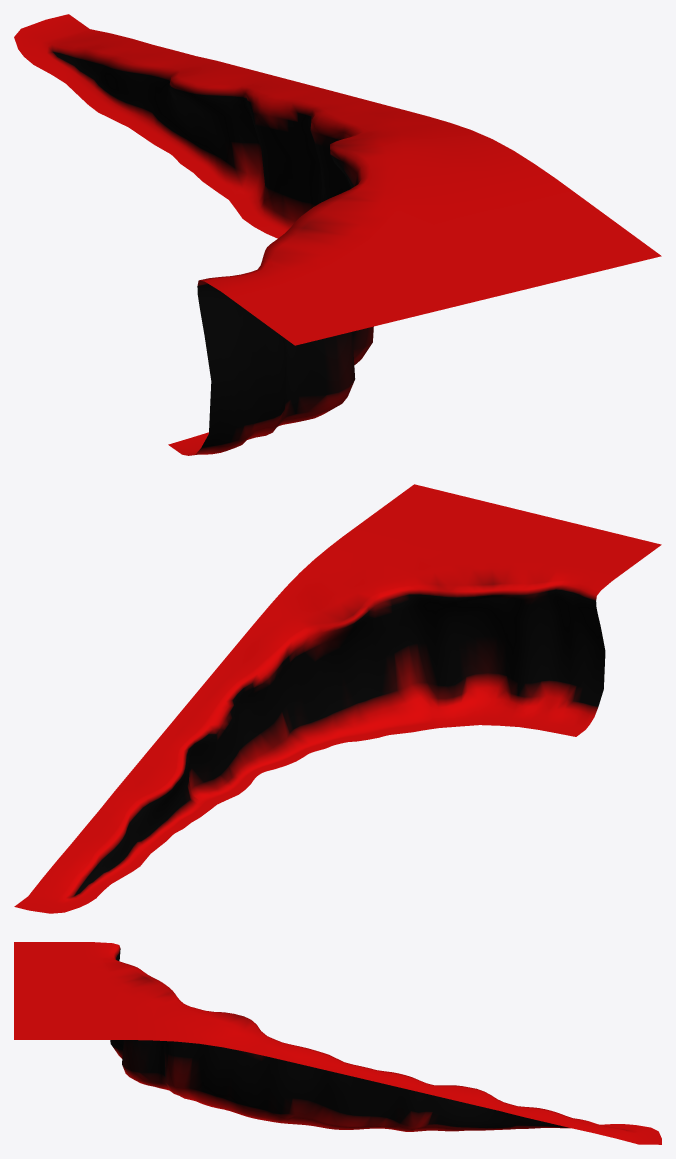
The model's file is ClimbCliff02B 1M Foreground.fbx.
The picture shows the model from 3 angles, top to bottom: view 1: azimuth 30°, elevation 25°; view 2: azimuth 150°, elevation 25°; view 3: azimuth 270°, elevation 25°; orthographic projection. The views are drawn at different scales.
Visible parts, largest first — view 1: ClimbCliff02B 1M Foreground; view 2: ClimbCliff02B 1M Foreground; view 3: ClimbCliff02B 1M Foreground.
Boxes of the visible parts, bbox=[...] form: ClimbCliff02B 1M Foreground: bbox=[14, 14, 661, 455]; ClimbCliff02B 1M Foreground: bbox=[14, 484, 661, 913]; ClimbCliff02B 1M Foreground: bbox=[14, 942, 661, 1144].
Bounding box in the file's own units: 2 × 1 × 5.6.
